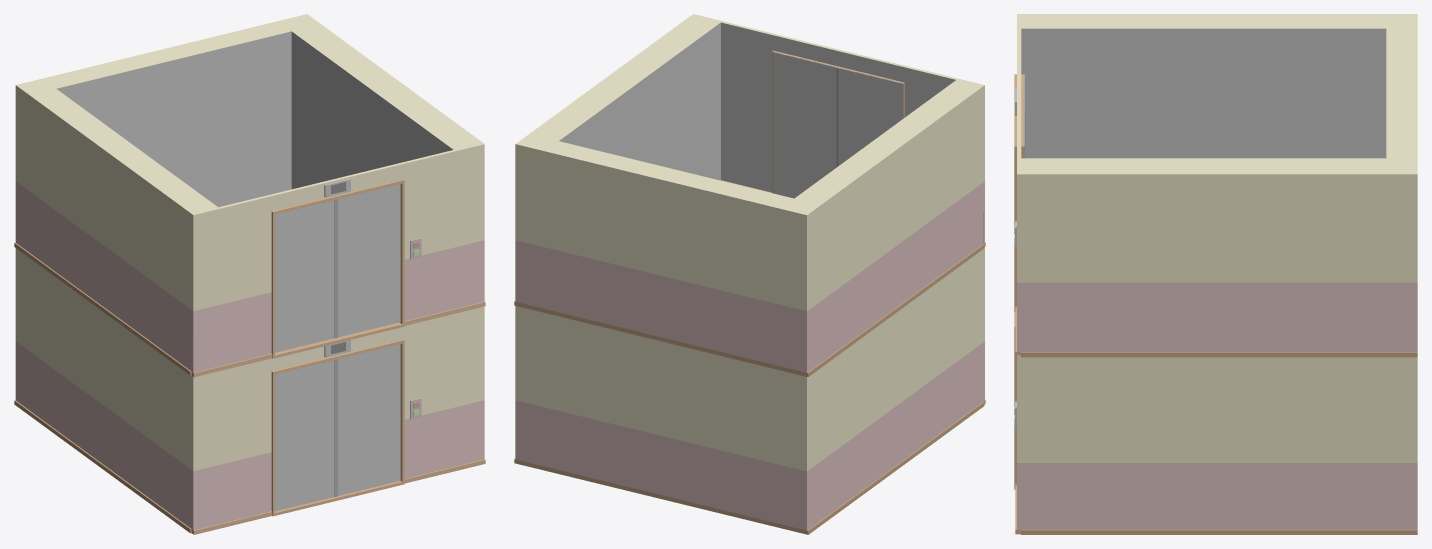
File: elevator_1.fbx
3 views of the same model, side by side, from view 1: azimuth 30°, elevation 25°; view 2: azimuth 150°, elevation 25°; view 3: azimuth 270°, elevation 25° (orthographic). The views are drawn at different scales.
Visible parts, largest first — view 1: Boole_5, Cube_16, Cube_16_2, Cube_12, Cube_12_2; view 2: Boole_5, Cube_16, Cube_12; view 3: Boole_5.
Boxes of the visible parts, <box> form: Boole_5: <box>14,14,485,534</box>; Cube_16: <box>334,184,400,338</box>; Cube_16_2: <box>334,344,400,496</box>; Cube_12: <box>275,200,337,352</box>; Cube_12_2: <box>275,360,337,511</box>; Boole_5: <box>514,14,985,534</box>; Cube_16: <box>773,52,839,198</box>; Cube_12: <box>836,68,903,166</box>; Boole_5: <box>1014,14,1417,534</box>.
Bounding box in the file's own units: 173 × 179 × 182.
